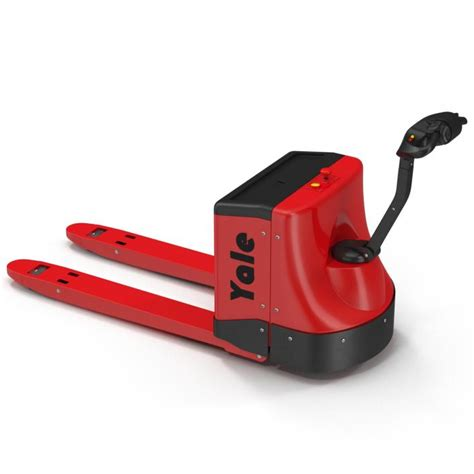Pallet Jack: (6, 110, 474, 381)
